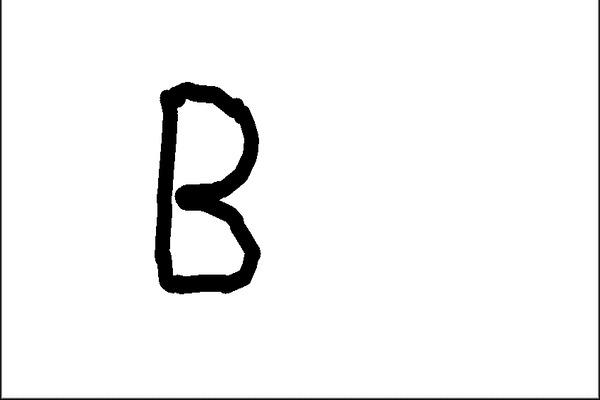B: (141, 71, 269, 302)
